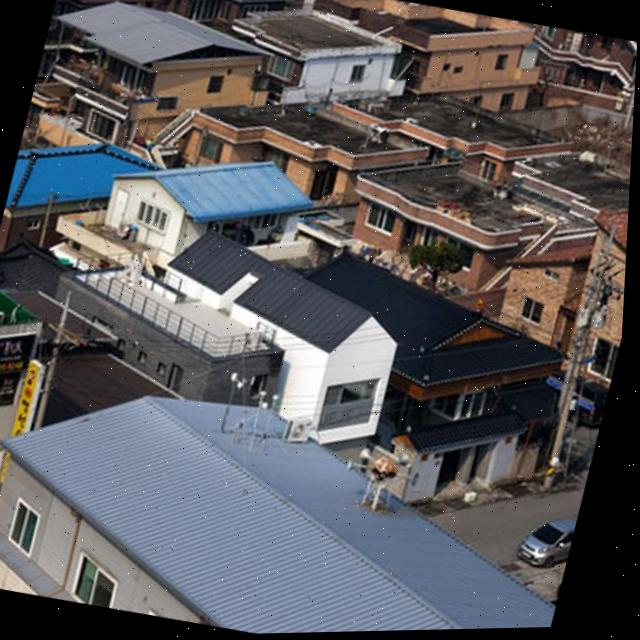building: (0, 345, 598, 640), (249, 233, 599, 526), (44, 198, 422, 456), (31, 0, 278, 161), (181, 69, 433, 225), (339, 140, 567, 305), (88, 127, 327, 270), (307, 0, 554, 123), (490, 182, 630, 398), (323, 69, 564, 185), (216, 0, 416, 126), (3, 121, 163, 241), (0, 277, 46, 584)
